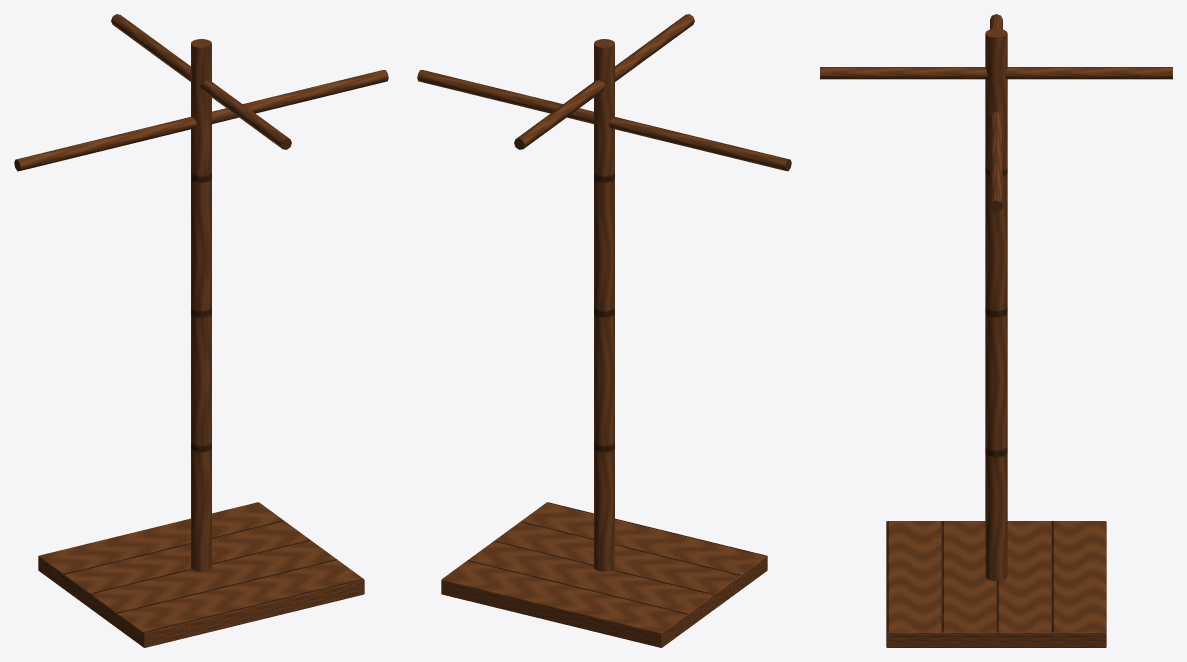
File: survival-food-and-preservation-sausage-hanger-59c61200__21812.glb
3 views of the same model, side by side, from view 1: azimuth 30°, elevation 25°; view 2: azimuth 150°, elevation 25°; view 3: azimuth 270°, elevation 25° (orthographic). The views are drawn at different scales.
Visible parts, largest first — view 1: sausage-hanger; view 2: sausage-hanger; view 3: sausage-hanger.
Boxes of the visible parts, x1=… form: sausage-hanger: x1=14, y1=14, x2=388, y2=647; sausage-hanger: x1=417, y1=14, x2=791, y2=647; sausage-hanger: x1=820, y1=14, x2=1172, y2=647.
Bounding box in the file's own units: 1 × 1.4 × 0.8001.
Materials: 1 (1 with a texture image).
